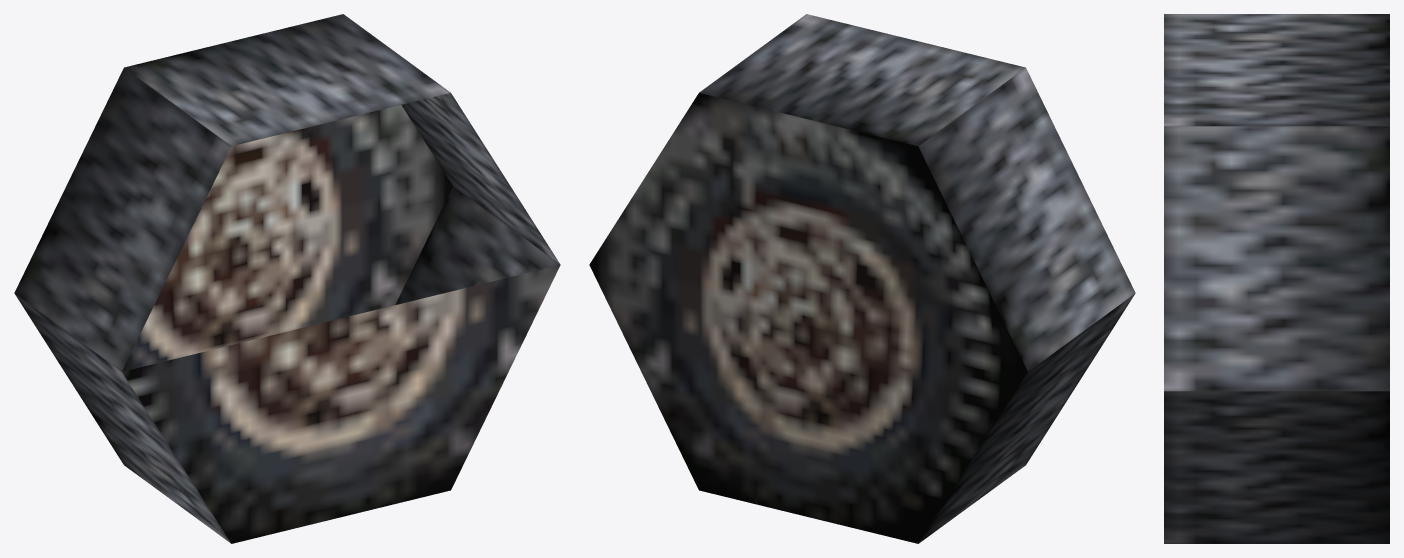
Rendered from GLA - Ground Vehicles - Quad Cannon - Damage State 3 - UVQuadCann_d3.glb.
The picture shows the model from 3 angles, left to right: view 1: azimuth 30°, elevation 25°; view 2: azimuth 150°, elevation 25°; view 3: azimuth 270°, elevation 25°; orthographic projection. The views are drawn at different scales.
Visible parts, largest first — view 1: UVQUADCANN_D3; view 2: UVQUADCANN_D3; view 3: UVQUADCANN_D3.
Boxes of the visible parts, x1=… form: UVQUADCANN_D3: x1=14, y1=14, x2=560, y2=543; UVQUADCANN_D3: x1=589, y1=14, x2=1135, y2=543; UVQUADCANN_D3: x1=1164, y1=14, x2=1389, y2=543.
Size of the model in its own units: 5.23 by 4.53 by 2.22.
Materials: 1 (1 with a texture image).
